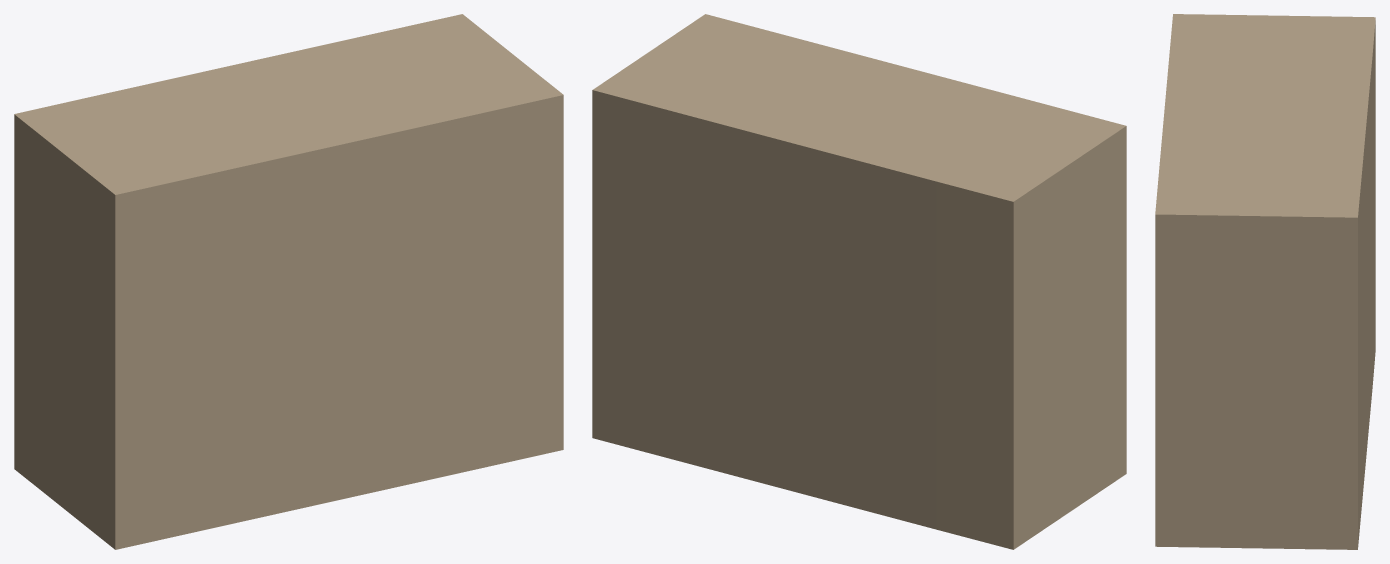
Rendered from bld_106415147.dae.
3 views of the same model, side by side, from view 1: azimuth 30°, elevation 25°; view 2: azimuth 150°, elevation 25°; view 3: azimuth 270°, elevation 25° (orthographic). The views are drawn at different scales.
Parts seen in each view (by area): view 1: bld_106415147; view 2: bld_106415147; view 3: bld_106415147.
Part boxes in pixels (x1,y1,x2,y2): bld_106415147: [14, 14, 563, 549]; bld_106415147: [592, 14, 1126, 549]; bld_106415147: [1155, 14, 1375, 549].
Size of the model in its own units: 10.52 by 4.81 by 8.
